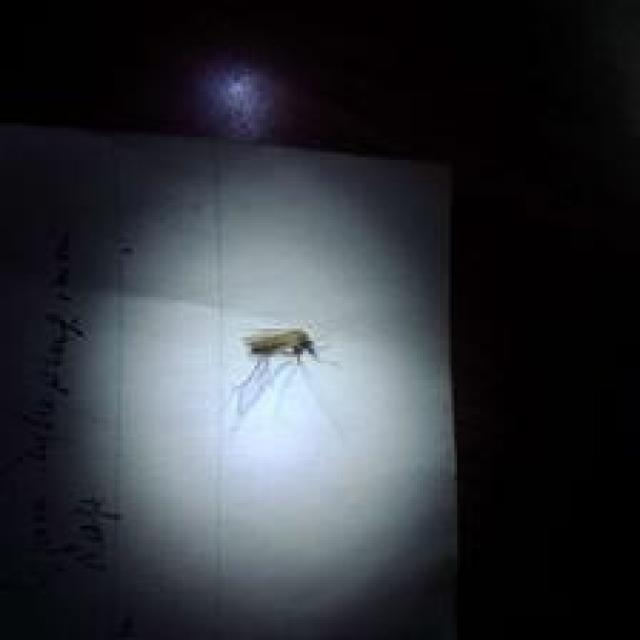Culex: (226, 326, 343, 437)
